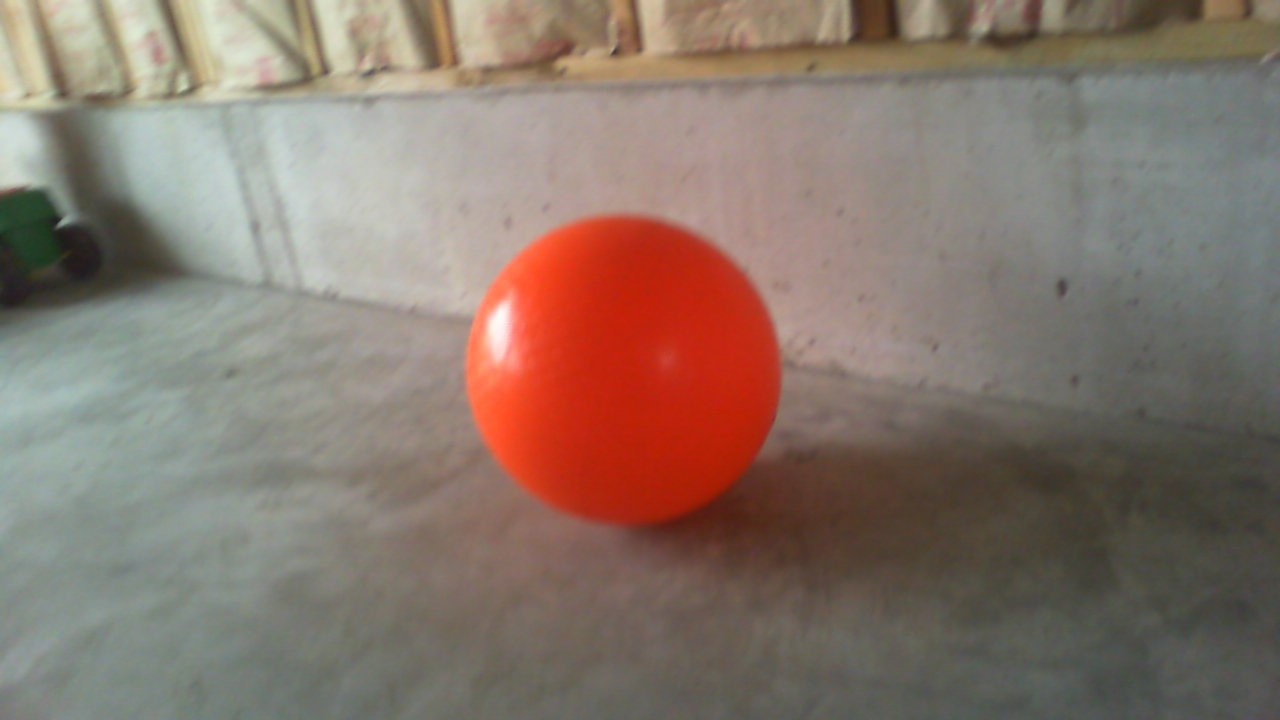Ball: (464, 215, 779, 524)
